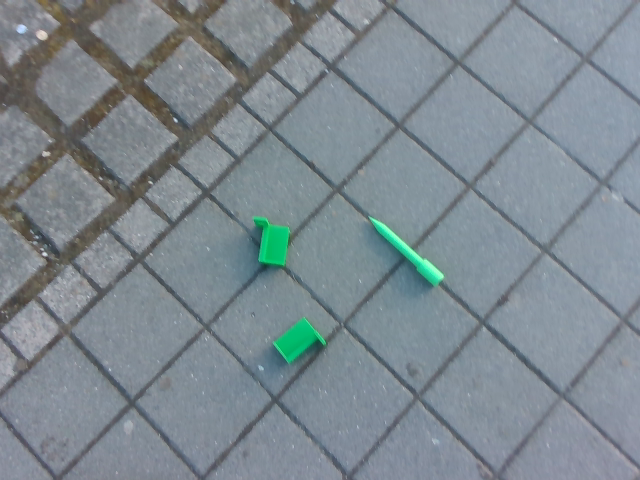Probe: (363, 209, 450, 290)
